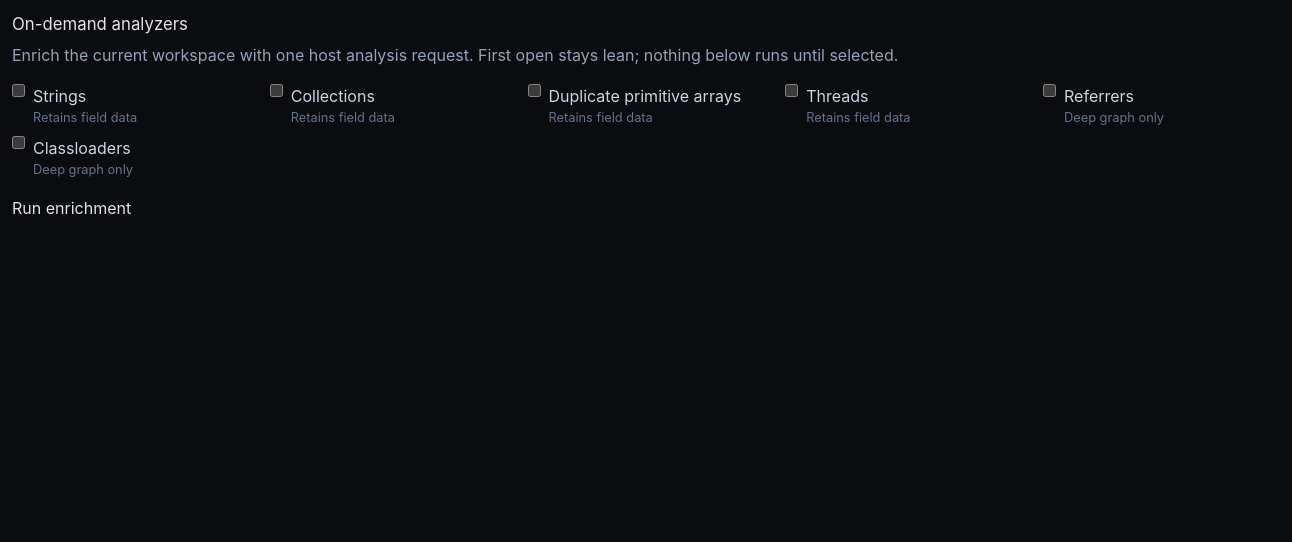
Test case: AnalyzerEnrichmentPanel › labels unavailable requested sections and response provenance
Click the checkbox labelled "Referrers Deep graph only" at [1050, 91], box [1043,84,1056,97]
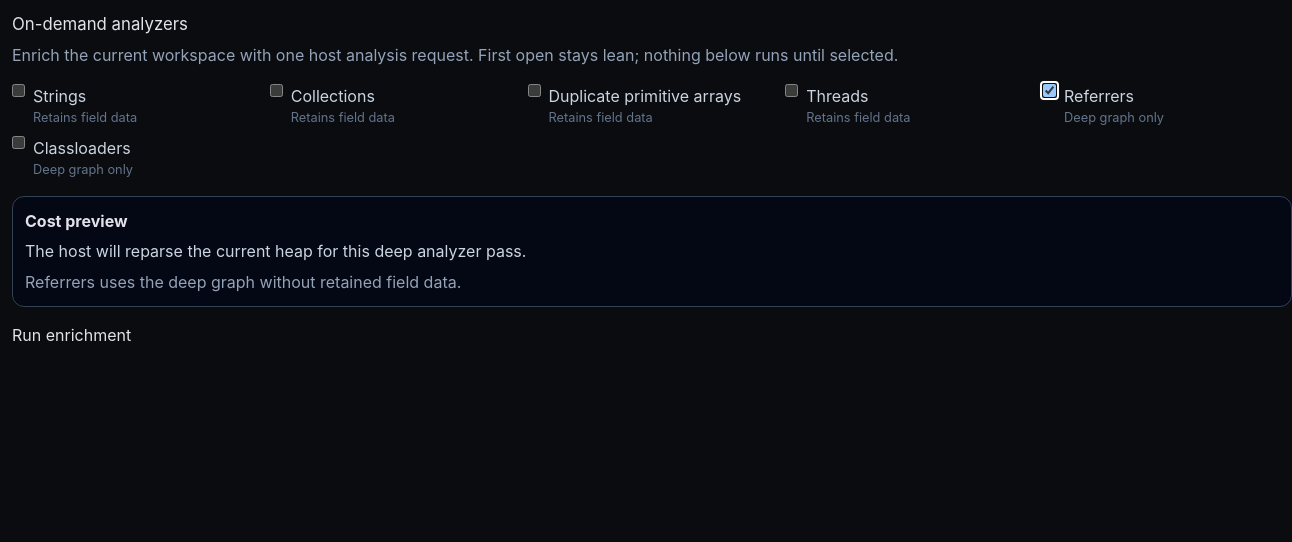
Click the checkbox labelled "Classloaders Deep graph only" at [18, 143], box [12,136,25,149]
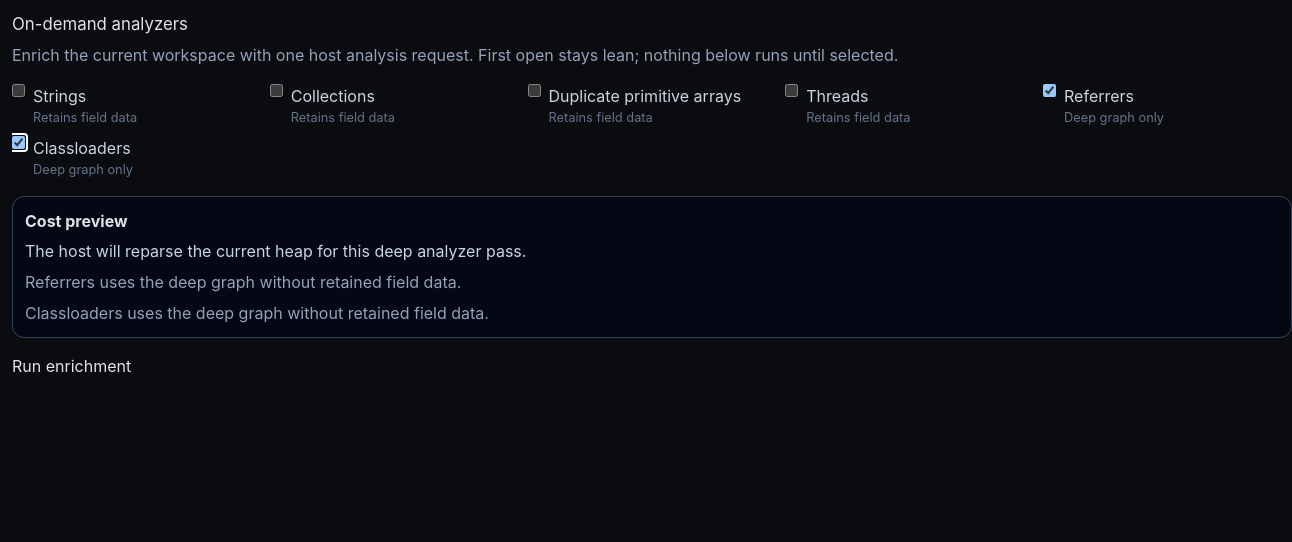
Click the button "Run enrichment" at [72, 366], box [12,354,131,378]
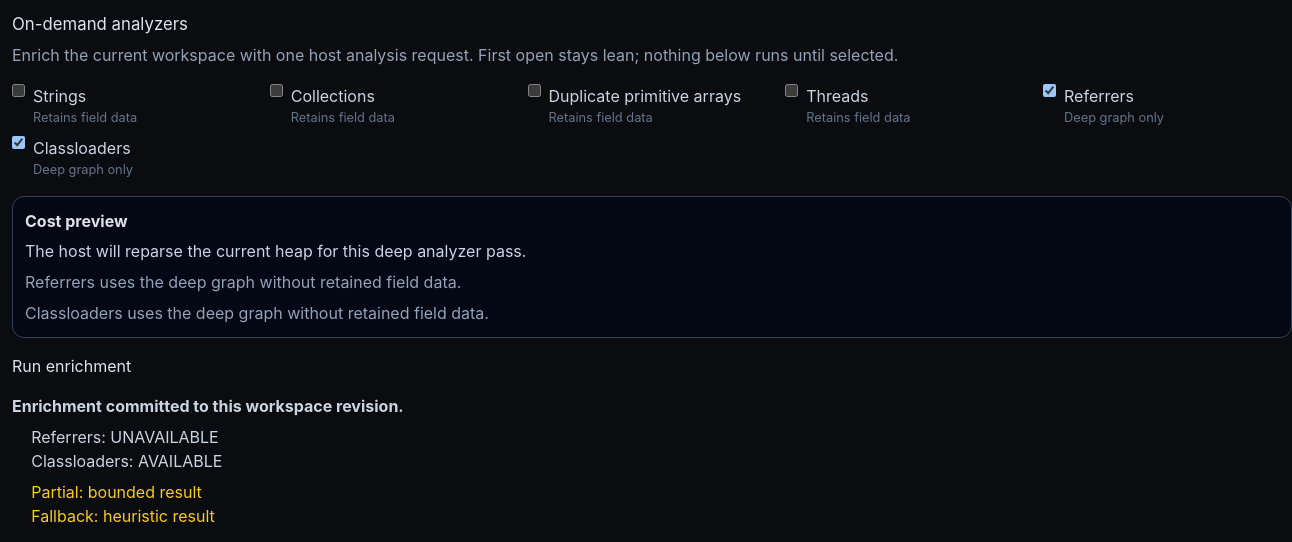
Check: the list item "Referrers: UNAVAILABLE" is shown, box [31,427,219,447]
Check: the list item "Classloaders: AVAILABLE" is shown, box [31,451,222,471]
Check: the list item "Partial: bounded result" is shown, box [31,482,202,502]
